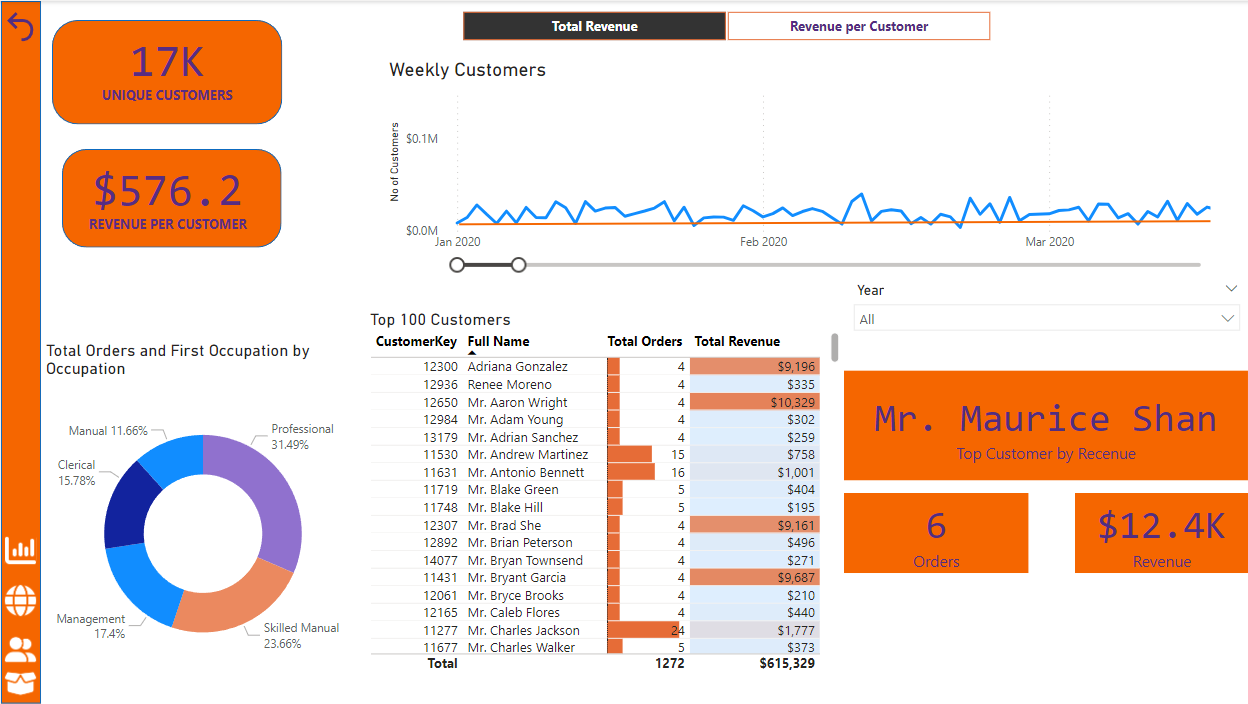

Layout of this report page (visuals, bound fields, positions):
{"tool":"powerbi","page":{"name":"Analysis on customer level","canvas":[1280,720],"ordinal":2},"visuals":[{"type":"shape","box":[0,0,41.1,719.9],"z":0},{"type":"actionButton","box":[0,543.5,49.9,39.6],"z":0,"group":"g1"},{"type":"actionButton","box":[0,594.6,49.9,39.6],"z":1000,"group":"g1"},{"type":"shape","box":[62.7,152.1,225.3,101],"z":1000},{"type":"shape","box":[52.3,19.7,235.7,106.8],"z":2000},{"type":"actionButton","box":[0,644.5,49.9,39.6],"z":2000,"group":"g1"},{"type":"card","fields":{"Values":["Measure Table.Total Customers"]},"box":[95.2,19.7,149.8,92.9],"z":3000},{"type":"card","fields":{"Values":["Measure Table.Average revenue per customer"]},"box":[76.6,152.1,188.1,92.9],"z":4000},{"type":"lineChart","title":"Weekly Customers","fields":{"Y":["Measure Table.Total Revenue"],"Category":["Calendar Lookup.Date.Variation.Date Hierarchy.Year","Calendar Lookup.Date.Variation.Date Hierarchy.Quarter","Calendar Lookup.Date.Variation.Date Hierarchy.Month","Calendar Lookup.Date.Variation.Date Hierarchy.Day"]},"box":[392,58.1,868.2,222.6],"z":5000},{"type":"donutChart","fields":{"Y":["Measure Table.Total Orders"],"Category":["Customer Lookup.Occupation"]},"box":[41.1,347.6,332.3,359.3],"z":6000},{"type":"tableEx","title":"Top 100 Customers","fields":{"Values":["Customer Lookup.CustomerKey","Customer Lookup.Full Name","Measure Table.Total Orders","Measure Table.Total Revenue"]},"box":[373.4,315.8,491,375.9],"z":7000},{"type":"card","fields":{"Values":["Measure Table.Total Orders"]},"box":[864.4,503.8,189.3,81.8],"z":8000},{"type":"card","fields":{"Values":["Measure Table.Total Revenue"]},"box":[1101,503.8,177.7,81.8],"z":9000},{"type":"card","fields":{"Values":["Customer Lookup.Full Name"]},"box":[864.4,378.5,414.3,112.5],"z":10000},{"type":"slicer","fields":{"Values":["Calendar Lookup.Year"]},"box":[864.1,282.8,415.9,96.1],"z":11000},{"type":"actionButton","box":[0,6.3,100.5,40.2],"z":12000},{"type":"group","id":"g1","title":"Navigation Buttons","box":[0,543.5,49.9,140.7],"z":13000},{"type":"slicer","fields":{"Values":["Customer Metric Selection.Customer Metric Selection"]},"box":[447.7,3.7,589.9,43.3],"z":14000},{"type":"actionButton","box":[0,679.8,100.2,40.2],"z":15000}]}

Visuals, with their boxes on the page's 1280x720 design canvas (x1, y1, x2, y2). These are canvas units, not pixel positions in the 1248x704 screenshot, which may show the page scaled, cropped or inside an application window:
shape: pyautogui.locateOnScreen(0, 0, 41, 720)
actionButton: pyautogui.locateOnScreen(0, 544, 50, 583)
actionButton: pyautogui.locateOnScreen(0, 595, 50, 634)
shape: pyautogui.locateOnScreen(63, 152, 288, 253)
shape: pyautogui.locateOnScreen(52, 20, 288, 126)
actionButton: pyautogui.locateOnScreen(0, 644, 50, 684)
card - Measure Table.Total Customers: pyautogui.locateOnScreen(95, 20, 245, 113)
card - Measure Table.Average revenue per customer: pyautogui.locateOnScreen(77, 152, 265, 245)
"Weekly Customers" lineChart: pyautogui.locateOnScreen(392, 58, 1260, 281)
donutChart - Measure Table.Total Orders x Customer Lookup.Occupation: pyautogui.locateOnScreen(41, 348, 373, 707)
"Top 100 Customers" tableEx: pyautogui.locateOnScreen(373, 316, 864, 692)
card - Measure Table.Total Orders: pyautogui.locateOnScreen(864, 504, 1054, 586)
card - Measure Table.Total Revenue: pyautogui.locateOnScreen(1101, 504, 1279, 586)
card - Customer Lookup.Full Name: pyautogui.locateOnScreen(864, 378, 1279, 491)
slicer - Calendar Lookup.Year: pyautogui.locateOnScreen(864, 283, 1280, 379)
actionButton: pyautogui.locateOnScreen(0, 6, 100, 46)
"Navigation Buttons" group: pyautogui.locateOnScreen(0, 544, 50, 684)
slicer - Customer Metric Selection.Customer Metric Selection: pyautogui.locateOnScreen(448, 4, 1038, 47)
actionButton: pyautogui.locateOnScreen(0, 680, 100, 720)
